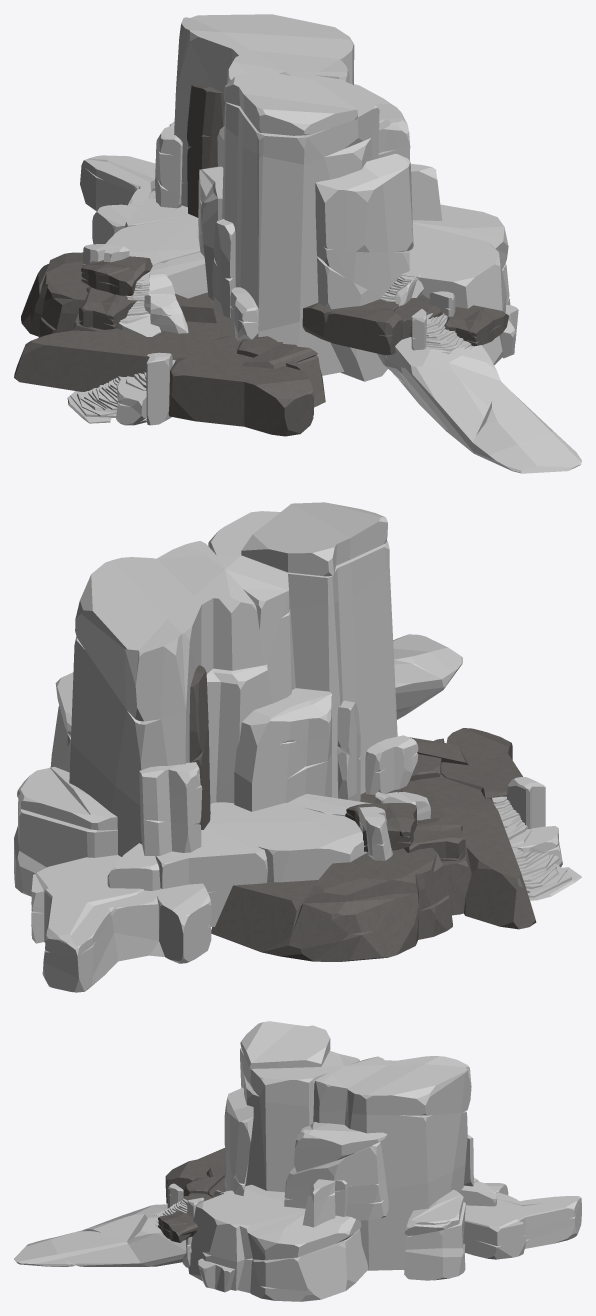
Rendered from Cliff_Asembly_01.fbx.
3 views of the same model, one above another, from view 1: azimuth 30°, elevation 25°; view 2: azimuth 150°, elevation 25°; view 3: azimuth 270°, elevation 25° (orthographic). The views are drawn at different scales.
Parts seen in each view (by area): view 1: Cliff_Asembly_01; view 2: Cliff_Asembly_01; view 3: Cliff_Asembly_01.
Part boxes in pixels (left/top/right/bottom): Cliff_Asembly_01: left=14, top=14, right=581, bottom=473; Cliff_Asembly_01: left=14, top=502, right=581, bottom=992; Cliff_Asembly_01: left=14, top=1021, right=581, bottom=1301.
Bounding box in the file's own units: 15707 × 9194 × 24041.
